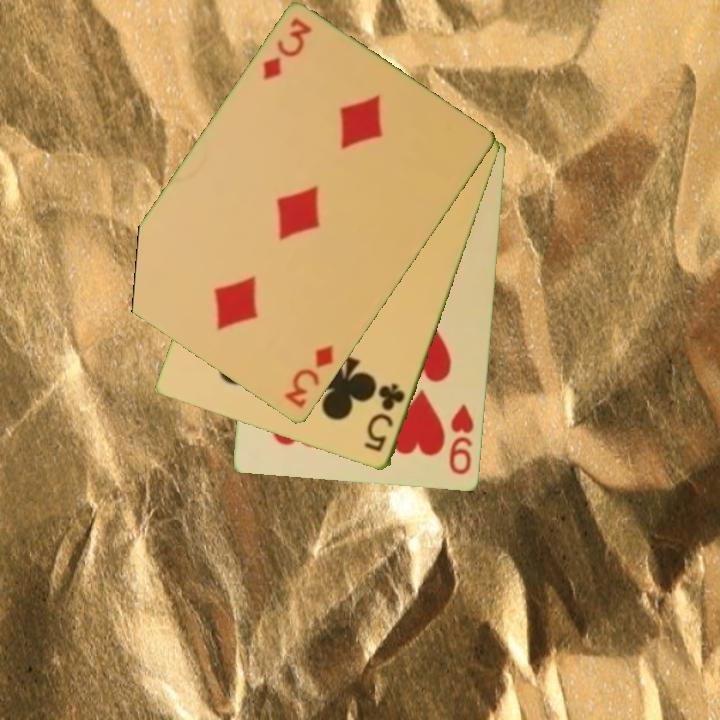3d: (281, 341, 337, 412), (259, 14, 315, 84)
5c: (361, 380, 409, 456)
9h: (446, 401, 477, 478)
